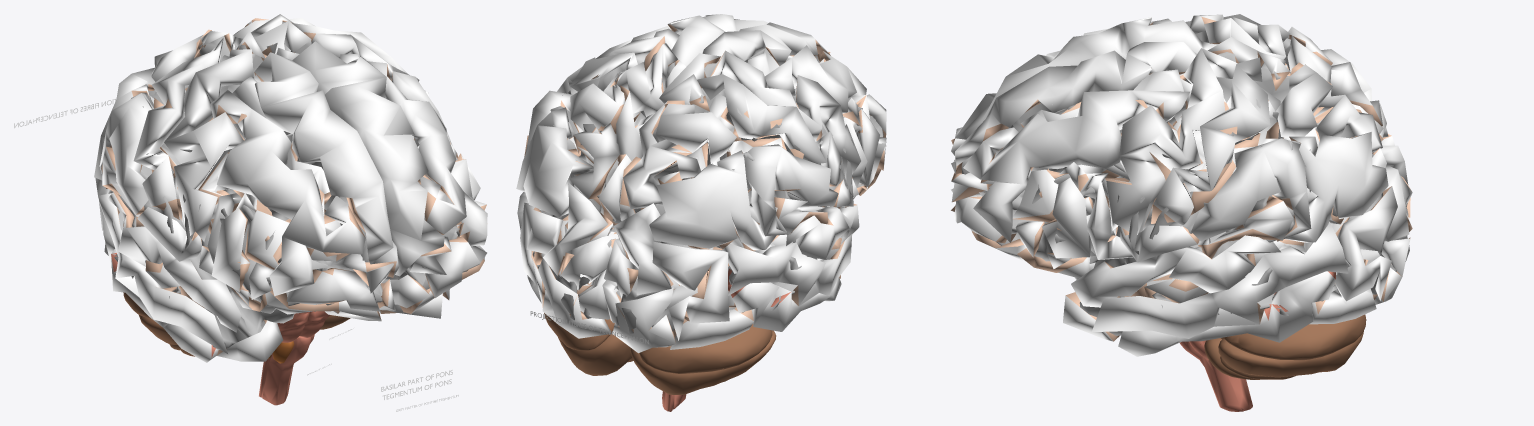
Rendered from brain.glb.
3 views of the same model, side by side, from view 1: azimuth 30°, elevation 25°; view 2: azimuth 150°, elevation 25°; view 3: azimuth 270°, elevation 25° (orthographic). The views are drawn at different scales.
Visible parts, largest first — view 1: Middle frontal gyrus.r, Superior frontal gyrus.l, Superior frontal gyrus.r, Precentral gyrus.r, Middle frontal gyrus.l, White matter of telencephalon.r, Postcentral gyrus.r, Middle temporal gyrus.r, Superior temporal gyrus (Lateral part).r, Supramarginal gyrus.r, Orbital gyri (Frontomarginal gyrus and sulcus*).r, Triangular part of inferior frontal gyrus.r (+30 smaller); view 2: Angular gyrus.r, Superior parietal lobule.r, Postcentral gyrus.r, Supramarginal gyrus.r, Middle temporal gyrus.r, Angular gyrus.l, Precentral gyrus.r, Lateral occipital gyrus (Middle occipital gyrus*).r, Superior parietal lobule.l, Middle frontal gyrus.r, White matter of telencephalon.r, Superior semilunar lobule.r (+34 smaller); view 3: Middle frontal gyrus.l, Middle temporal gyrus.l, Precentral gyrus.l, Superior frontal gyrus.l, Supramarginal gyrus.l, Postcentral gyrus.l, Angular gyrus.l, Superior temporal gyrus (Lateral part).l, White matter of telencephalon.l, Superior frontal gyrus.r, Inferior temporal gyrus.l, Superior parietal lobule.l (+28 smaller).
Part boxes in pixels (x1,y1,x2,y2): Middle frontal gyrus.r: (210, 90, 365, 296); Superior frontal gyrus.l: (276, 41, 444, 276); Superior frontal gyrus.r: (254, 52, 399, 277); Precentral gyrus.r: (164, 49, 253, 241); Middle frontal gyrus.l: (368, 61, 487, 246); White matter of telencephalon.r: (111, 36, 386, 349); Postcentral gyrus.r: (133, 38, 223, 219); Middle temporal gyrus.r: (95, 178, 227, 353); Superior temporal gyrus (Lateral part).r: (107, 191, 241, 332); Supramarginal gyrus.r: (99, 93, 152, 214); Orbital gyri (Frontomarginal gyrus and sulcus*).r: (286, 268, 379, 311); Triangular part of inferior frontal gyrus.r: (211, 207, 250, 291); Angular gyrus.r: (649, 150, 776, 250); Superior parietal lobule.r: (623, 103, 736, 209); Postcentral gyrus.r: (697, 74, 841, 186); Supramarginal gyrus.r: (743, 144, 838, 236); Middle temporal gyrus.r: (722, 234, 852, 306); Angular gyrus.l: (516, 107, 593, 217); Precentral gyrus.r: (710, 50, 860, 179); Lateral occipital gyrus (Middle occipital gyrus*).r: (652, 241, 729, 340); Superior parietal lobule.l: (569, 83, 626, 198); Middle frontal gyrus.r: (765, 45, 886, 137); White matter of telencephalon.r: (614, 48, 883, 333); Superior semilunar lobule.r: (639, 324, 772, 373); Middle frontal gyrus.l: (963, 90, 1189, 242); Middle temporal gyrus.l: (1092, 221, 1348, 338); Precentral gyrus.l: (1106, 48, 1237, 234); Superior frontal gyrus.l: (951, 42, 1196, 173); Supramarginal gyrus.l: (1191, 138, 1311, 241); Postcentral gyrus.l: (1151, 57, 1270, 224); Angular gyrus.l: (1285, 132, 1388, 242); Superior temporal gyrus (Lateral part).l: (1071, 235, 1280, 307); White matter of telencephalon.l: (961, 52, 1409, 335); Superior frontal gyrus.r: (951, 17, 1217, 155); Inferior temporal gyrus.l: (1118, 271, 1335, 356); Superior parietal lobule.l: (1276, 64, 1382, 152).
Size of the model in its own units: 0.1366 by 0.1619 by 0.2347.
